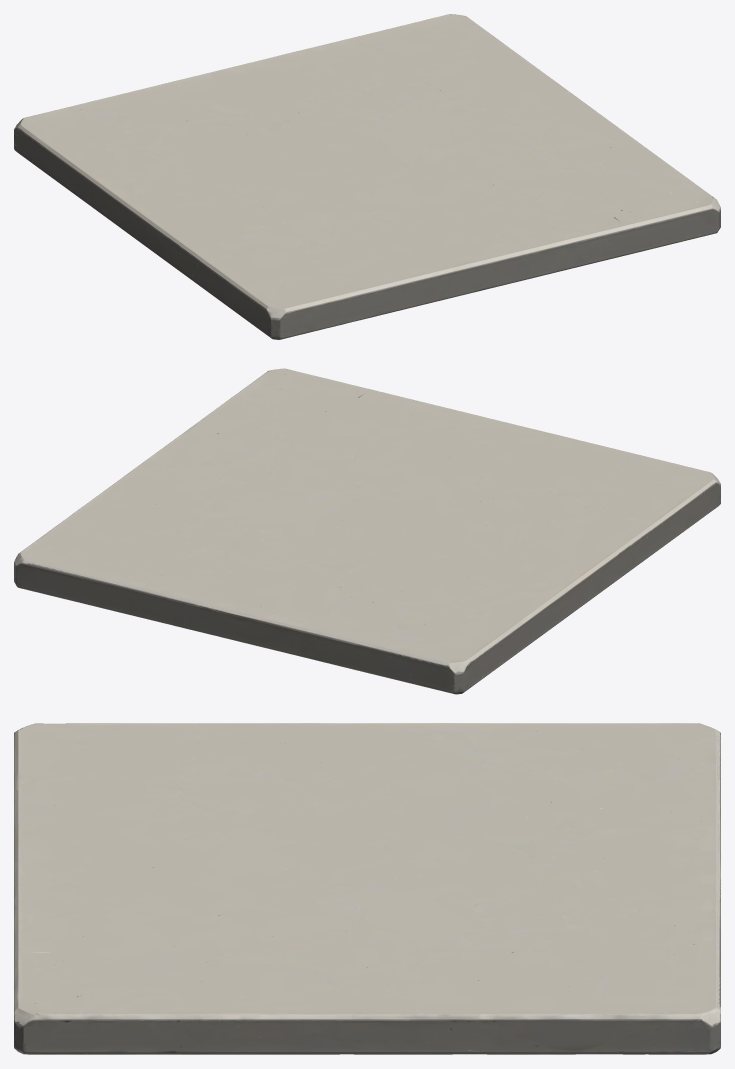
Rendered from model-23-floor-tile.glb.
3 views of the same model, one above another, from view 1: azimuth 30°, elevation 25°; view 2: azimuth 150°, elevation 25°; view 3: azimuth 270°, elevation 25° (orthographic). The views are drawn at different scales.
Parts seen in each view (by area): view 1: node_0; view 2: node_0; view 3: node_0.
Part boxes in pixels (box(x1,y1,x2,y2)): node_0: box(14, 14, 720, 339); node_0: box(14, 368, 720, 694); node_0: box(14, 723, 720, 1054).
Size of the model in its own units: 0.8528 by 0.0543 by 0.8663.
1 material, 1 textured.
